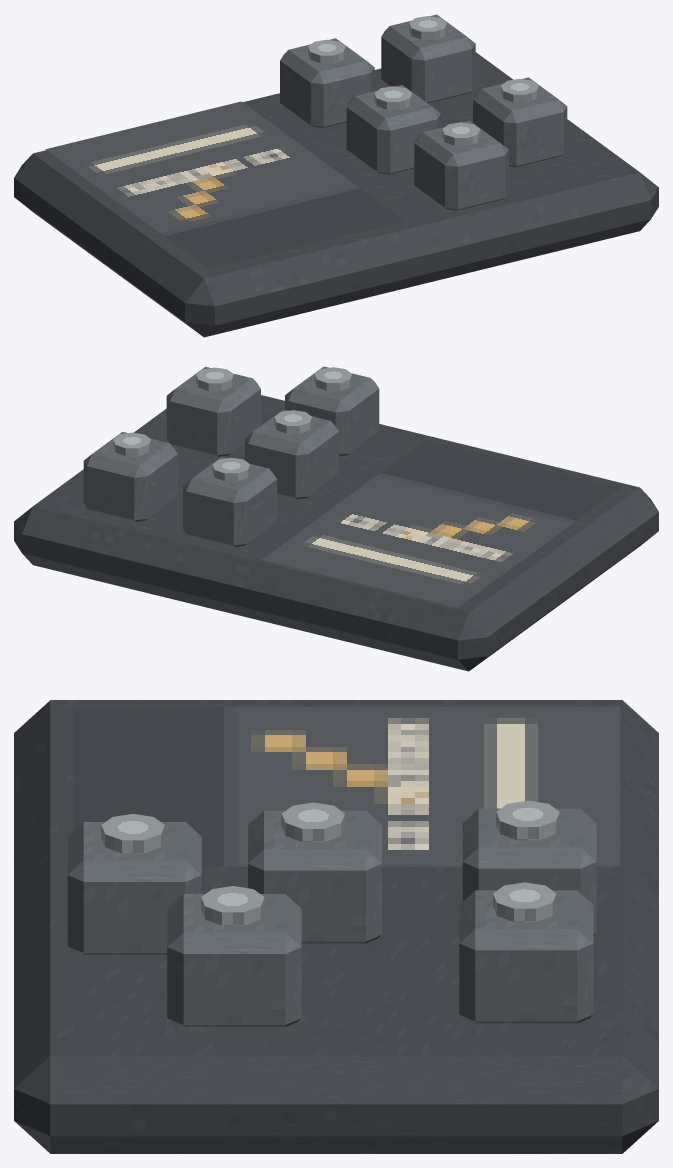
The model's file is engineering_makerspace_kit.glb.
3 views of the same model, one above another, from view 1: azimuth 30°, elevation 25°; view 2: azimuth 150°, elevation 25°; view 3: azimuth 270°, elevation 25° (orthographic). The views are drawn at different scales.
Parts seen in each view (by area): view 1: block_equipment tray, block_lid label, block_educational component (×5), block_peg or wheel (×5); view 2: block_equipment tray, block_lid label, block_educational component (×5), block_peg or wheel (×5); view 3: block_equipment tray, block_educational component (×5), block_lid label, block_peg or wheel (×5).
Part boxes in pixels (<box>): block_equipment tray: <box>14,52,658,337</box>; block_lid label: <box>45,101,404,268</box>; block_educational component (×5): <box>280,14,567,210</box>; block_peg or wheel (×5): <box>308,16,538,145</box>; block_equipment tray: <box>14,395,658,671</box>; block_lid label: <box>262,440,621,607</box>; block_educational component (×5): <box>83,366,379,546</box>; block_peg or wheel (×5): <box>113,367,352,481</box>; block_equipment tray: <box>14,700,658,1153</box>; block_educational component (×5): <box>67,808,596,1026</box>; block_lid label: <box>73,706,620,866</box>; block_peg or wheel (×5): <box>101,800,559,925</box>.
Size of the model in its own units: 0.2186 by 0.053 by 0.1542.
1 material, 1 textured.
